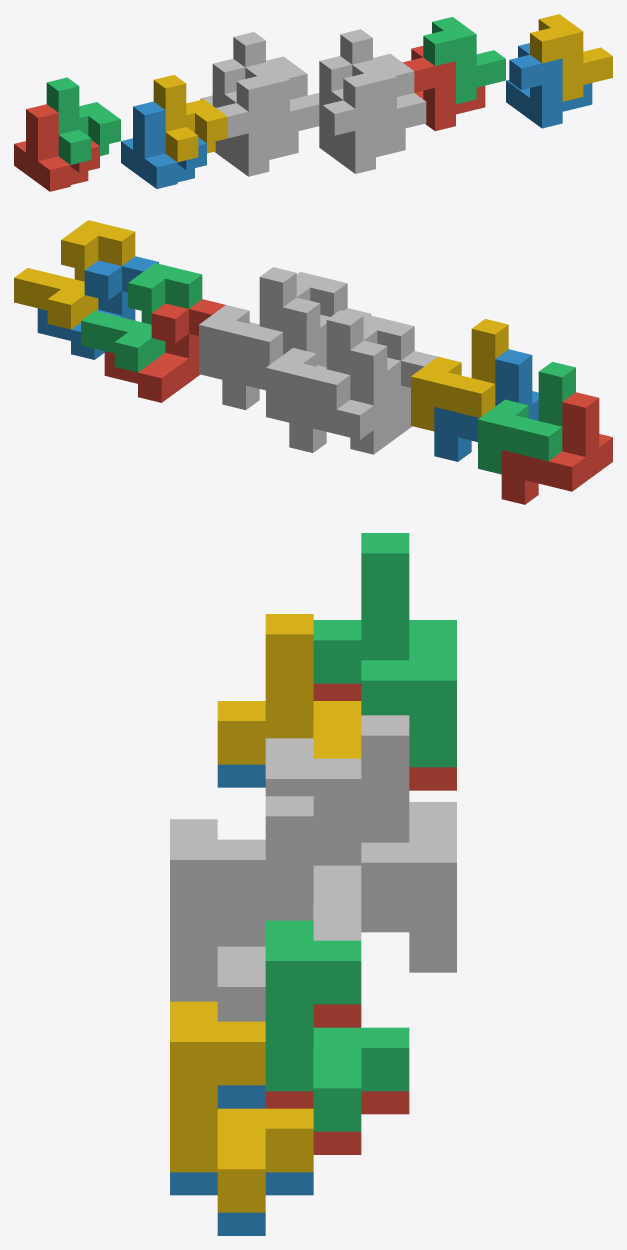
File: tiling.obj
3 views of the same model, one above another, from view 1: azimuth 30°, elevation 25°; view 2: azimuth 150°, elevation 25°; view 3: azimuth 270°, elevation 25° (orthographic). The views are drawn at different scales.
Visible parts, largest first — view 1: copy_2_domain_6, copy_1_domain_3, copy_1_domain_4, copy_2_domain_2, copy_1_domain_1, copy_1_domain_2, copy_2_domain_8, copy_2_domain_3, copy_2_domain_4, copy_2_domain_7, copy_2_domain_1, copy_2_domain_5 (+4 smaller); view 2: copy_2_domain_7, copy_1_domain_1, copy_2_domain_8, copy_1_domain_5, copy_1_domain_7, copy_1_domain_3, copy_1_domain_4, copy_1_domain_8, copy_2_domain_5, copy_1_domain_2, copy_1_domain_6, copy_2_domain_6 (+3 smaller); view 3: copy_2_domain_7, copy_2_domain_8, copy_1_domain_3, copy_1_domain_7, copy_2_domain_4, copy_1_domain_4, copy_1_domain_8, copy_2_domain_3, copy_2_domain_6, copy_2_domain_5, copy_1_domain_5, copy_1_domain_1 (+1 smaller).
Part boxes in pixels (x1,y1,x2,y2): copy_2_domain_6: (506, 43, 592, 128); copy_1_domain_3: (46, 77, 120, 164); copy_1_domain_4: (153, 75, 227, 162); copy_2_domain_2: (319, 88, 405, 173); copy_1_domain_1: (14, 104, 99, 191); copy_1_domain_2: (121, 101, 206, 188); copy_2_domain_8: (530, 14, 612, 101); copy_2_domain_3: (236, 62, 319, 149); copy_2_domain_4: (343, 59, 426, 147); copy_2_domain_7: (423, 17, 505, 104); copy_2_domain_1: (214, 91, 298, 176); copy_2_domain_5: (402, 46, 485, 131); copy_2_domain_7: (81, 263, 202, 372); copy_1_domain_1: (501, 392, 612, 504); copy_2_domain_8: (14, 220, 135, 329); copy_1_domain_5: (289, 340, 400, 452); copy_1_domain_7: (266, 310, 363, 422); copy_1_domain_3: (478, 361, 575, 474); copy_1_domain_4: (411, 319, 508, 431); copy_1_domain_8: (199, 267, 296, 379); copy_2_domain_5: (104, 299, 225, 402); copy_1_domain_2: (434, 349, 538, 461); copy_1_domain_6: (222, 297, 326, 409); copy_2_domain_6: (37, 256, 158, 359); copy_2_domain_7: (265, 920, 409, 1131); copy_2_domain_8: (170, 1001, 313, 1212); copy_1_domain_3: (313, 533, 456, 767); copy_1_domain_7: (313, 715, 456, 949); copy_2_domain_4: (170, 819, 265, 1021); copy_1_domain_4: (217, 614, 361, 764); copy_1_domain_8: (217, 796, 361, 946); copy_2_domain_3: (265, 738, 361, 882); copy_2_domain_6: (170, 1085, 313, 1235); copy_2_domain_5: (265, 1004, 409, 1154); copy_1_domain_5: (361, 906, 456, 972); copy_1_domain_1: (313, 683, 456, 790).
Size of the model in its own units: 26 by 5 by 6.
